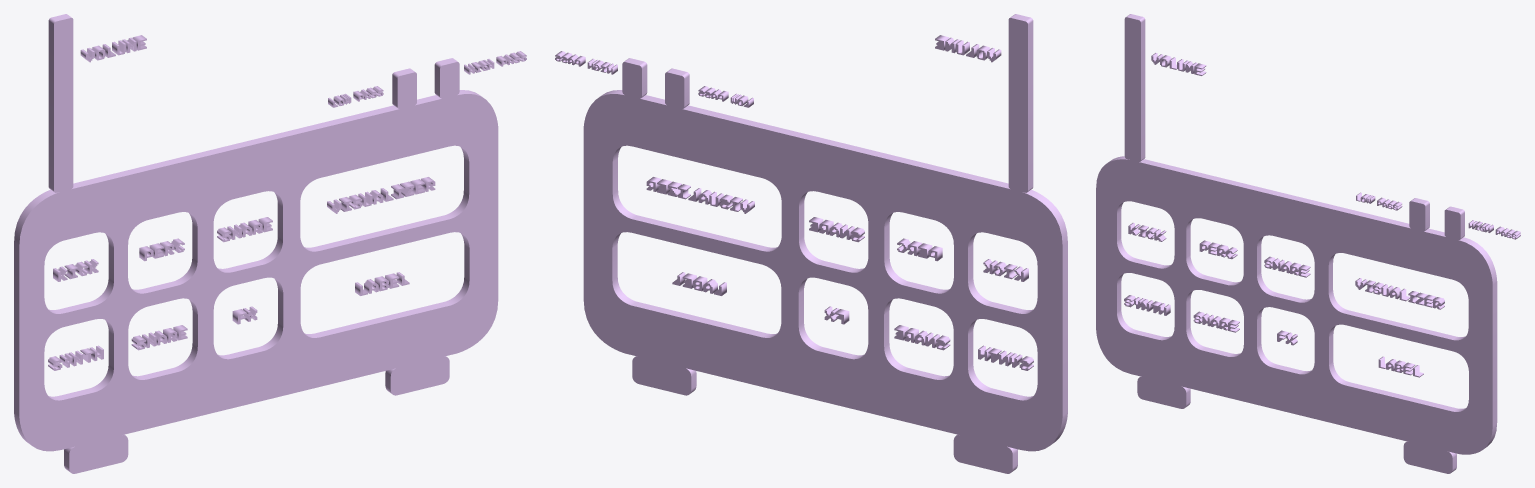
File: SPECS+SPOT2.gltf
3 renders of one model, left to right at view 1: azimuth 30°, elevation 25°; view 2: azimuth 150°, elevation 25°; view 3: azimuth 330°, elevation 25°, orthographic. The views are drawn at different scales.
Visible parts, largest first — view 1: Curve011; view 2: Curve011; view 3: Curve011.
Part boxes in pixels (x1,y1,x2,y2): Curve011: (14, 14, 526, 473); Curve011: (555, 14, 1067, 473); Curve011: (1096, 14, 1520, 473).
Size of the model in its own units: 2.78 by 2.39 by 0.0505.
